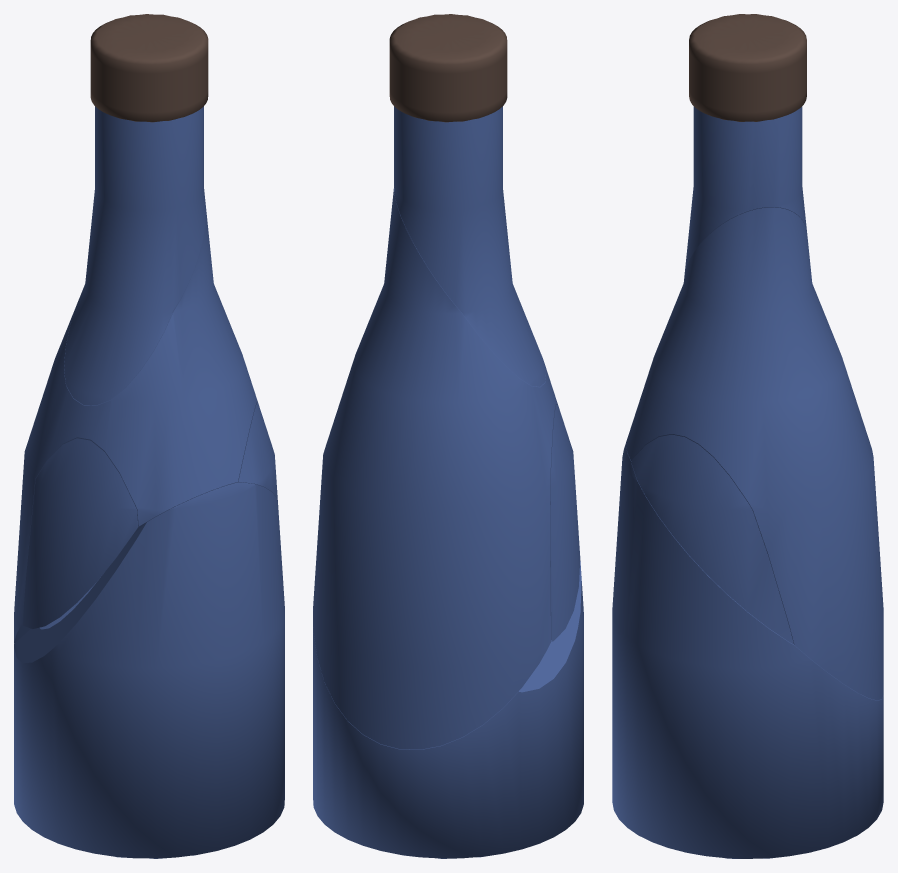
Rendered from smoothbottleexploded.fbx.
3 renders of one model, left to right at view 1: azimuth 30°, elevation 25°; view 2: azimuth 150°, elevation 25°; view 3: azimuth 270°, elevation 25°, orthographic.
Parts seen in each view (by area): view 1: pCylinder15_cell.003, pCylinder15_cell.004, pCylinder15_cell.002, pCylinder15_cell.001, pCylinder16, pCylinder15_cell; view 2: pCylinder15_cell.004, pCylinder15_cell.003, pCylinder15_cell.002, pCylinder16, pCylinder15_cell.001; view 3: pCylinder15_cell.003, pCylinder15_cell.004, pCylinder15_cell, pCylinder15_cell.002, pCylinder16.
Boxes of the visible parts, x1,y1,x2,y2 form: pCylinder15_cell.003: [14, 482, 284, 858]; pCylinder15_cell.004: [14, 202, 257, 643]; pCylinder15_cell.002: [64, 106, 205, 405]; pCylinder15_cell.001: [22, 438, 138, 628]; pCylinder16: [90, 14, 208, 122]; pCylinder15_cell: [238, 402, 277, 502]; pCylinder15_cell.004: [313, 186, 557, 749]; pCylinder15_cell.003: [313, 561, 583, 858]; pCylinder15_cell.002: [394, 106, 545, 386]; pCylinder16: [389, 14, 507, 122]; pCylinder15_cell.001: [550, 404, 580, 641]; pCylinder15_cell.003: [612, 442, 883, 858]; pCylinder15_cell.004: [626, 207, 883, 700]; pCylinder15_cell: [631, 434, 793, 644]; pCylinder15_cell.002: [684, 106, 806, 273]; pCylinder16: [689, 14, 806, 121].
Bounding box in the file's own units: 198 × 621 × 198.
